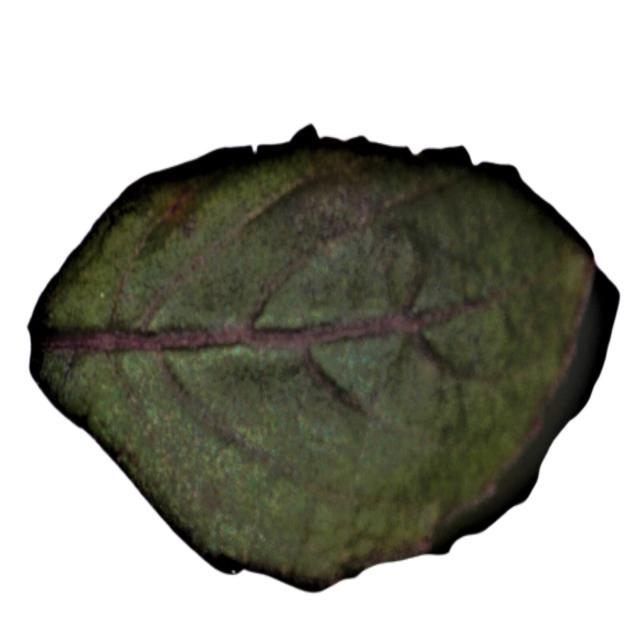tulsi: (24, 120, 625, 598)
